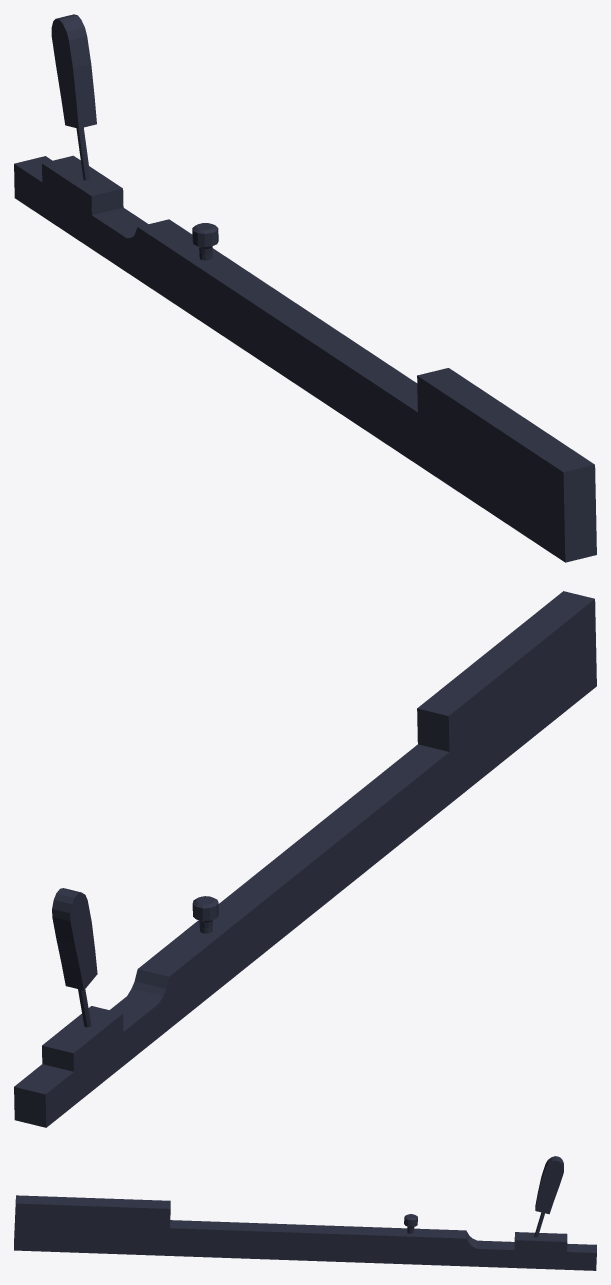
The model's file is key_base_black.obj.
3 views of the same model, one above another, from view 1: azimuth 30°, elevation 25°; view 2: azimuth 150°, elevation 25°; view 3: azimuth 270°, elevation 25° (orthographic). The views are drawn at different scales.
Parts seen in each view (by area): view 1: Cylinder.178_Cylinder.213; view 2: Cylinder.178_Cylinder.213; view 3: Cylinder.178_Cylinder.213.
Part boxes in pixels (left/top/right/bottom): Cylinder.178_Cylinder.213: left=14, top=14, right=596, bottom=562; Cylinder.178_Cylinder.213: left=14, top=591, right=596, bottom=1127; Cylinder.178_Cylinder.213: left=14, top=1156, right=596, bottom=1270.
Size of the model in its own units: 0.0174 by 0.1079 by 0.526.
